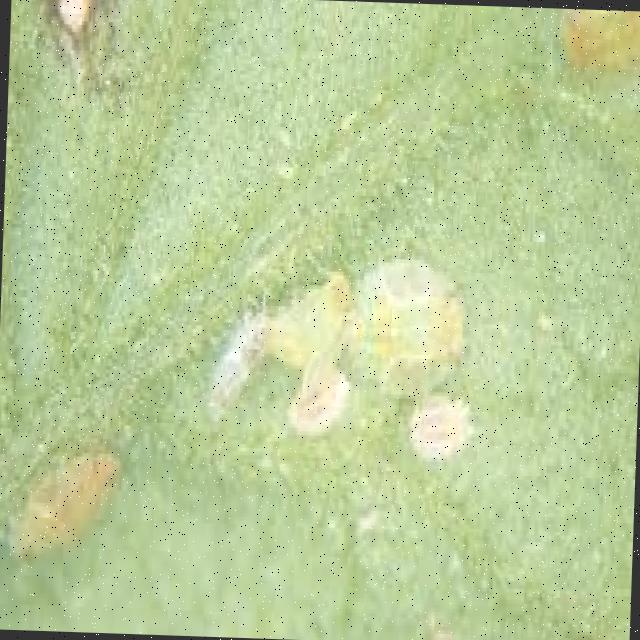whitefly: (202, 274, 489, 524)
